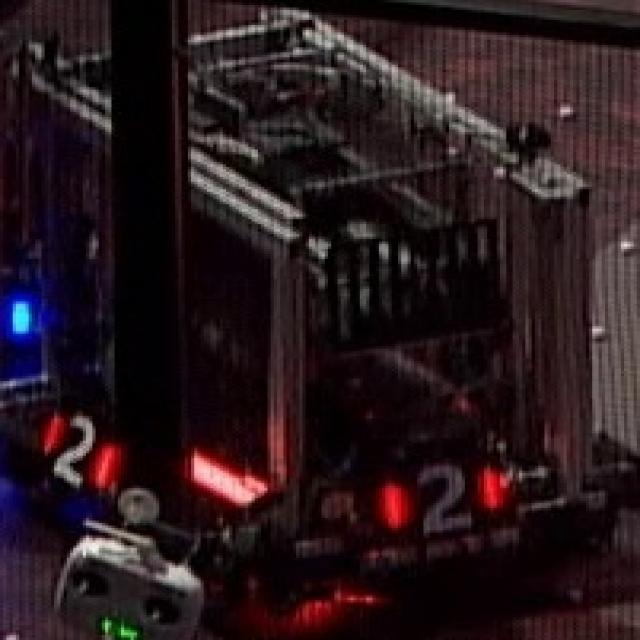R2: (366, 451, 513, 535), (28, 407, 118, 489)
